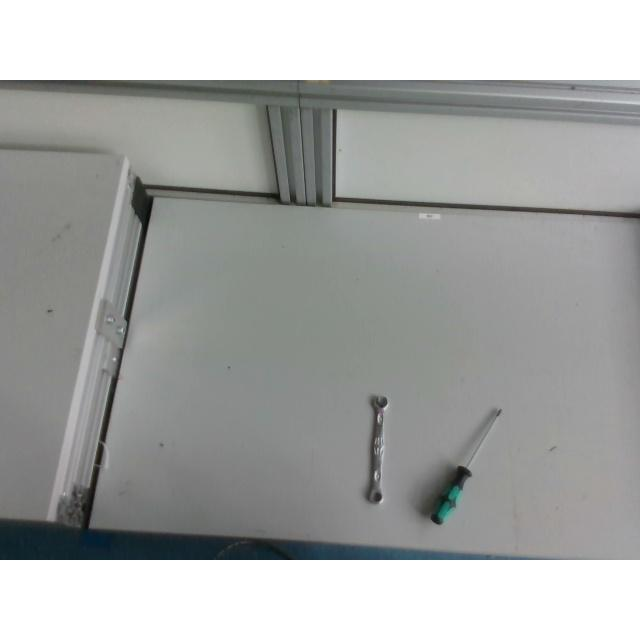Screwdriver: (430, 407, 500, 523)
Wrench: (365, 395, 389, 503)
